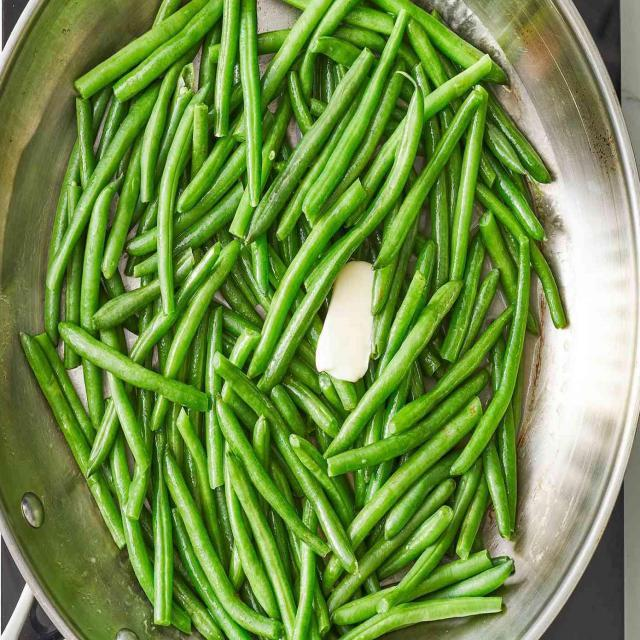Beans: (12, 0, 572, 639)
